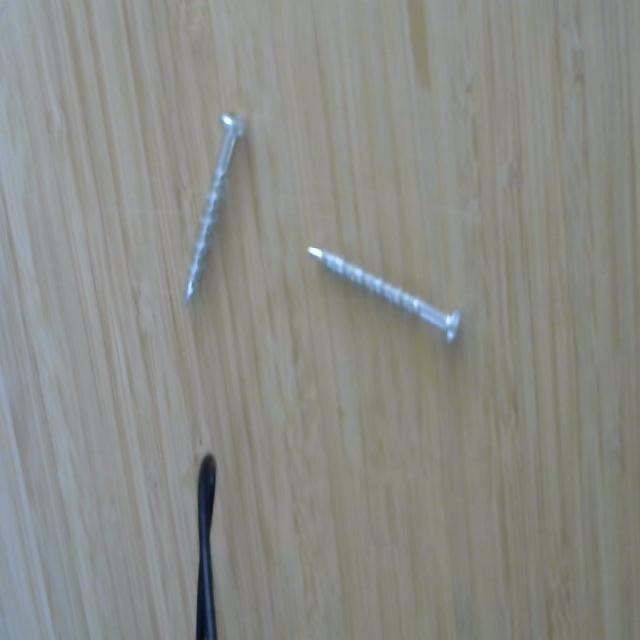Medium screw: (301, 229, 473, 358), (179, 100, 255, 310)
